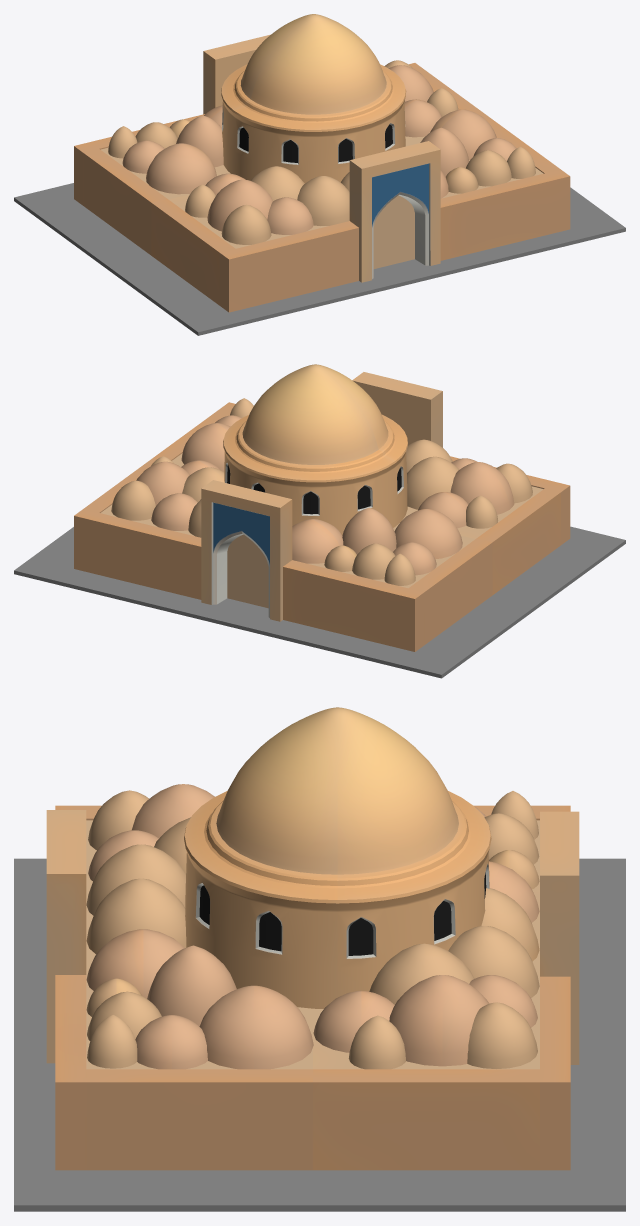
The model's file is Shaybani‑Period Trade Domes.glb.
3 views of the same model, one above another, from view 1: azimuth 30°, elevation 25°; view 2: azimuth 150°, elevation 25°; view 3: azimuth 270°, elevation 25° (orthographic). The views are drawn at different scales.
Visible parts, largest first — view 1: pCub1e1wewew5; view 2: pCub1e1wewew5; view 3: pCub1e1wewew5.
Boxes of the visible parts, x1,y1,x2,y2 form: pCub1e1wewew5: (14, 14, 625, 335); pCub1e1wewew5: (14, 364, 625, 678); pCub1e1wewew5: (14, 707, 625, 1211).
Size of the model in its own units: 1.23 by 0.5411 by 0.9156.
2 materials, 1 textured.
